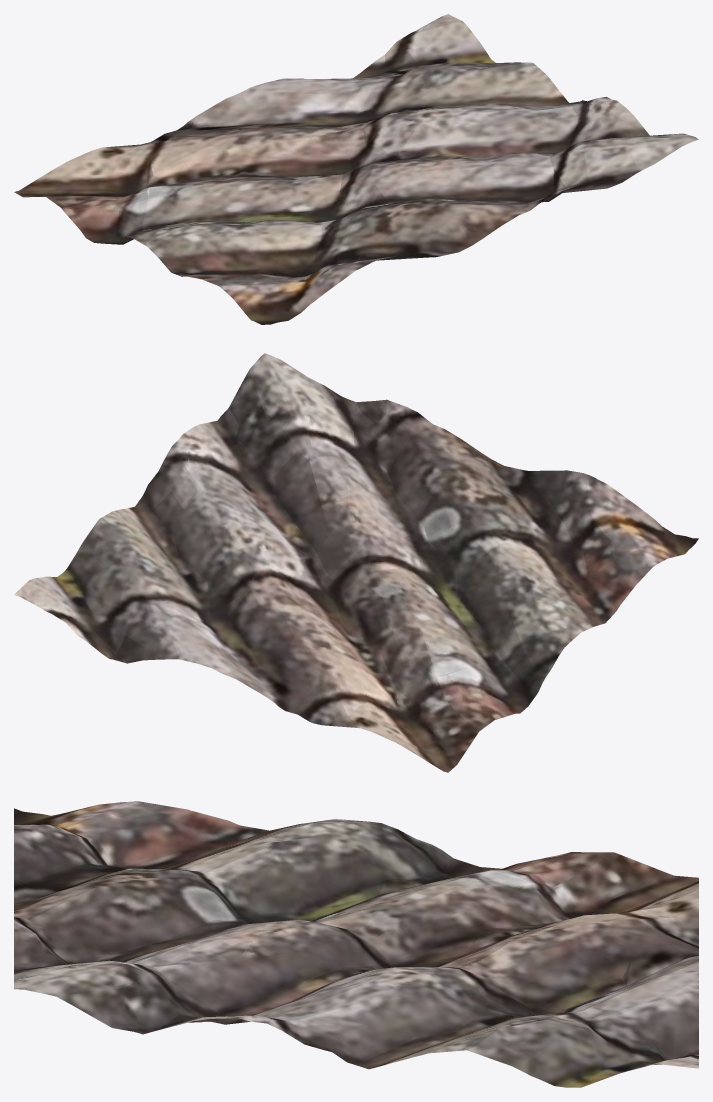
The picture shows the model from 3 angles, top to bottom: view 1: azimuth 30°, elevation 25°; view 2: azimuth 150°, elevation 25°; view 3: azimuth 270°, elevation 25°; orthographic projection. The views are drawn at different scales.
Size of the model in its own units: 0.8374 by 0.2399 by 0.8374.
Materials: 3 (3 with a texture image).
